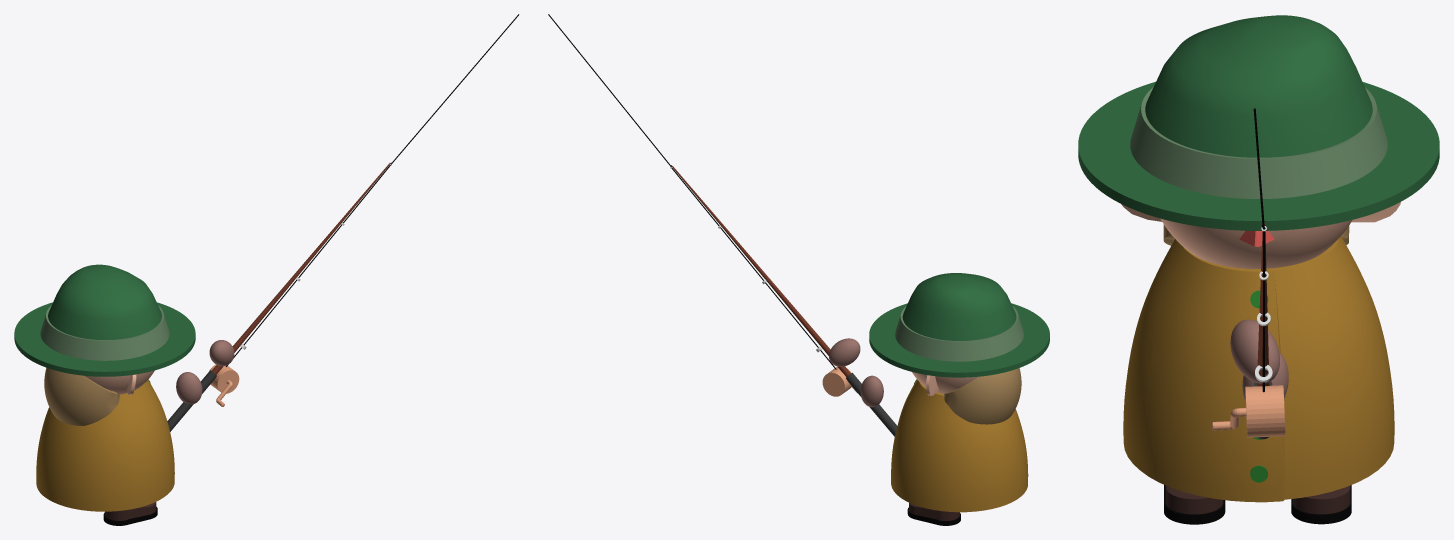
Rendered from RIBAK_BROSOK 3.fbx.
3 renders of one model, left to right at view 1: azimuth 30°, elevation 25°; view 2: azimuth 150°, elevation 25°; view 3: azimuth 270°, elevation 25°, orthographic. The views are drawn at different scales.
Parts seen in each view (by area): view 1: Цилиндр.005, Сфера, Окружность, Цилиндр.001, Сфера.002, Цилиндр, Сфера.003, Цилиндр.002; view 2: Цилиндр.005, Сфера, Окружность, Цилиндр.001, Сфера.002, Цилиндр, Сфера.001, Сфера.003, Цилиндр.002; view 3: Цилиндр.005, Сфера, Сфера.002, Цилиндр, Цилиндр.002, Сфера.001, Цилиндр.001, Сфера.003, Цилиндр.004.
Part boxes in pixels (x1=…): Цилиндр.005: x1=14, y1=264, x2=195, y2=376; Сфера: x1=36, y1=380, x2=174, y2=511; Окружность: x1=44, y1=367, x2=119, y2=425; Цилиндр.001: x1=167, y1=163, x2=390, y2=431; Сфера.002: x1=84, y1=370, x2=154, y2=395; Цилиндр: x1=103, y1=502, x2=157, y2=525; Сфера.003: x1=176, y1=372, x2=202, y2=404; Цилиндр.002: x1=209, y1=364, x2=239, y2=406; Цилиндр.005: x1=869, y1=273, x2=1049, y2=377; Сфера: x1=891, y1=379, x2=1028, y2=512; Окружность: x1=944, y1=368, x2=1021, y2=424; Цилиндр.001: x1=672, y1=166, x2=897, y2=436; Сфера.002: x1=912, y1=372, x2=979, y2=395; Цилиндр: x1=907, y1=502, x2=960, y2=525; Сфера.001: x1=829, y1=338, x2=860, y2=366; Сфера.003: x1=860, y1=375, x2=883, y2=407; Цилиндр.002: x1=822, y1=367, x2=857, y2=396; Цилиндр.005: x1=1078, y1=15, x2=1439, y2=230; Сфера: x1=1123, y1=236, x2=1394, y2=502; Сфера.002: x1=1121, y1=202, x2=1400, y2=268; Цилиндр: x1=1164, y1=485, x2=1351, y2=524; Цилиндр.002: x1=1211, y1=385, x2=1285, y2=437; Сфера.001: x1=1230, y1=319, x2=1279, y2=383; Цилиндр.001: x1=1254, y1=223, x2=1272, y2=439; Сфера.003: x1=1242, y1=352, x2=1288, y2=401; Цилиндр.004: x1=1250, y1=290, x2=1268, y2=482.
Bounding box in the file's own units: 537 × 411 × 171.
